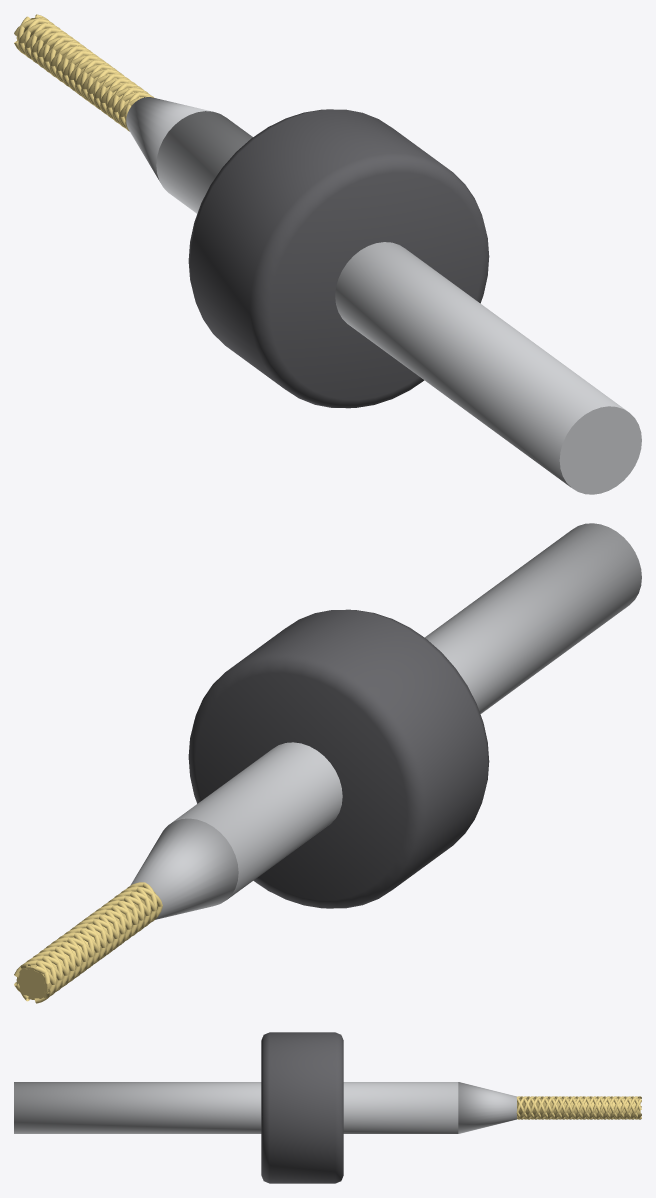
Rendered from corn18_1p4.glb.
The picture shows the model from 3 angles, top to bottom: view 1: azimuth 30°, elevation 25°; view 2: azimuth 150°, elevation 25°; view 3: azimuth 270°, elevation 25°; orthographic projection. The views are drawn at different scales.
Visible parts, largest first — view 1: Cylinder.002, Cylinder.001, Cone, flute.007, flute, flute.002, flute.005, flute.001, flute.004, flute.006, flute.003; view 2: Cylinder.002, Cylinder.001, Cone, Cylinder, flute.002, flute.005, flute.007, flute, flute.003, flute.004, flute.001, flute.006; view 3: Cylinder.001, Cylinder.002, Cone, Cylinder, flute.003, flute.006, flute, flute.005, flute.001, flute.004, flute.002, flute.007.
Boxes of the visible parts, bbox=[...] form: Cylinder.002: bbox=[188, 109, 489, 408]; Cylinder.001: bbox=[156, 111, 641, 494]; Cone: bbox=[126, 97, 212, 180]; flute.007: bbox=[18, 16, 141, 131]; flute: bbox=[14, 18, 154, 121]; flute.002: bbox=[18, 23, 143, 126]; flute.005: bbox=[24, 17, 148, 120]; flute.001: bbox=[14, 26, 135, 128]; flute.004: bbox=[24, 28, 143, 130]; flute.006: bbox=[31, 14, 149, 117]; flute.003: bbox=[31, 22, 153, 123]; Cylinder.002: bbox=[188, 609, 489, 908]; Cylinder.001: bbox=[170, 523, 641, 899]; Cone: bbox=[130, 818, 238, 919]; Cylinder: bbox=[16, 886, 158, 999]; flute.002: bbox=[33, 882, 157, 1003]; flute.005: bbox=[14, 886, 162, 989]; flute.007: bbox=[34, 891, 157, 994]; flute: bbox=[27, 885, 150, 987]; flute.003: bbox=[21, 882, 144, 1001]; flute.004: bbox=[14, 894, 162, 995]; flute.001: bbox=[33, 895, 150, 998]; flute.006: bbox=[20, 890, 144, 991]; Cylinder.001: bbox=[14, 1082, 458, 1133]; Cylinder.002: bbox=[261, 1032, 343, 1183]; Cone: bbox=[458, 1082, 516, 1133]; Cylinder: bbox=[517, 1098, 640, 1117]; flute.003: bbox=[516, 1096, 641, 1119]; flute.006: bbox=[517, 1096, 641, 1119]; flute: bbox=[516, 1096, 641, 1119]; flute.005: bbox=[520, 1096, 641, 1119]; flute.001: bbox=[516, 1096, 641, 1119]; flute.004: bbox=[523, 1096, 641, 1119]; flute.002: bbox=[517, 1096, 641, 1119]; flute.007: bbox=[527, 1096, 641, 1119].
Size of the model in its own units: 0.00917 by 0.00917 by 0.0381.
